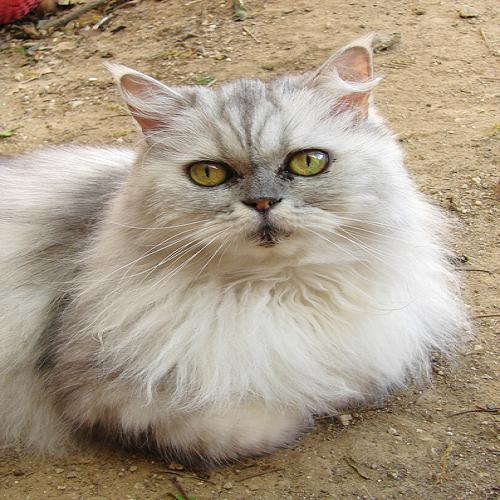persian: (90, 40, 403, 270)
